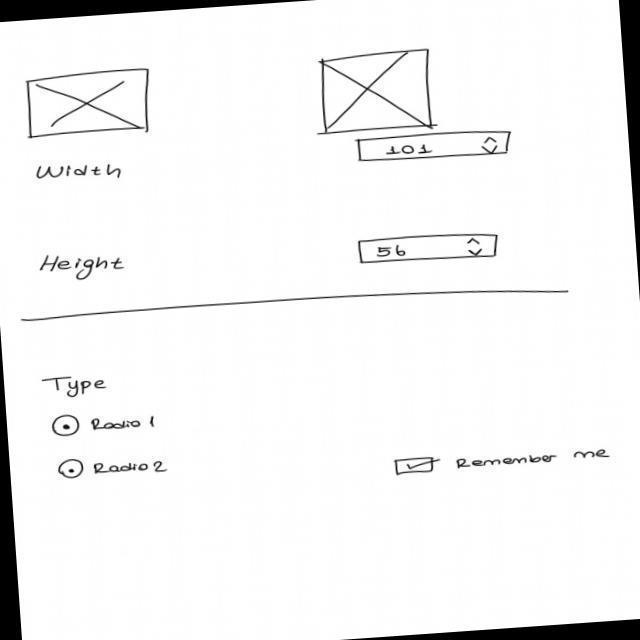checkbox: (392, 443, 615, 477)
image: (316, 49, 437, 138), (24, 67, 156, 141)
label: (36, 249, 129, 284), (34, 158, 125, 186), (41, 373, 111, 401)
number-input: (355, 127, 515, 166), (357, 230, 502, 269)
radio: (52, 413, 82, 443), (57, 458, 88, 483)
